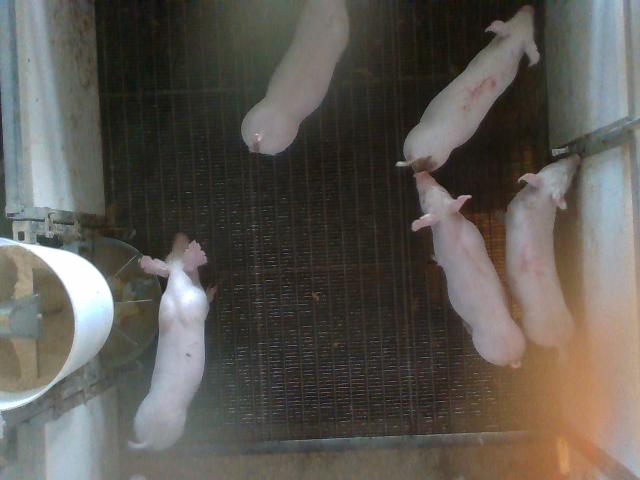pig-4: (505, 155, 580, 346)
pig-5: (400, 8, 539, 172)
